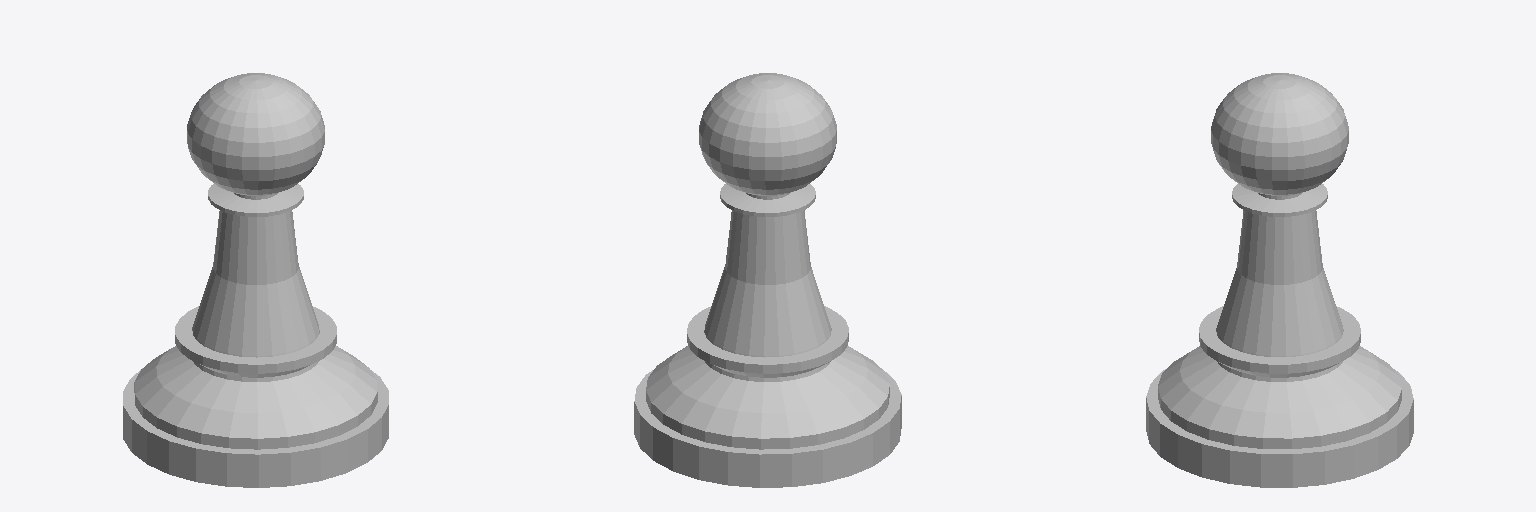
Rendered from pawn_white.obj.
3 renders of one model, left to right at view 1: azimuth 30°, elevation 25°; view 2: azimuth 150°, elevation 25°; view 3: azimuth 270°, elevation 25°, orthographic.
Visible parts, largest first — view 1: pawn_white_pawn; view 2: pawn_white_pawn; view 3: pawn_white_pawn.
Boxes of the visible parts, box(x1,y1,x2,y2) form: pawn_white_pawn: box(123, 73, 388, 487); pawn_white_pawn: box(634, 73, 901, 487); pawn_white_pawn: box(1146, 73, 1413, 487).
Bounding box in the file's own units: 3.19 × 4.64 × 3.21.